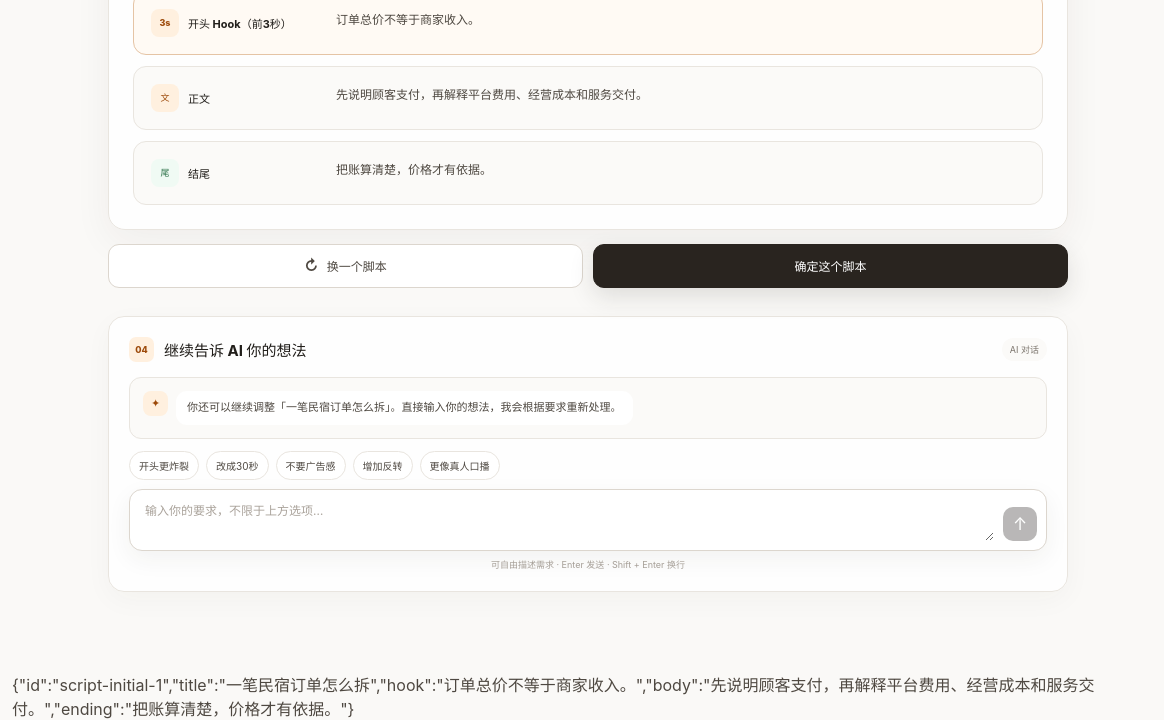
Step4 聊天修改脚本 › 修改成功后同步更新聊天、脚本卡片和 WorkflowContext 四个字段
The image size is (1164, 720).
(page scrolled)
Type "更幽默" into the text box named "输入调整要求" at (568, 520), box [143,498,994,541]
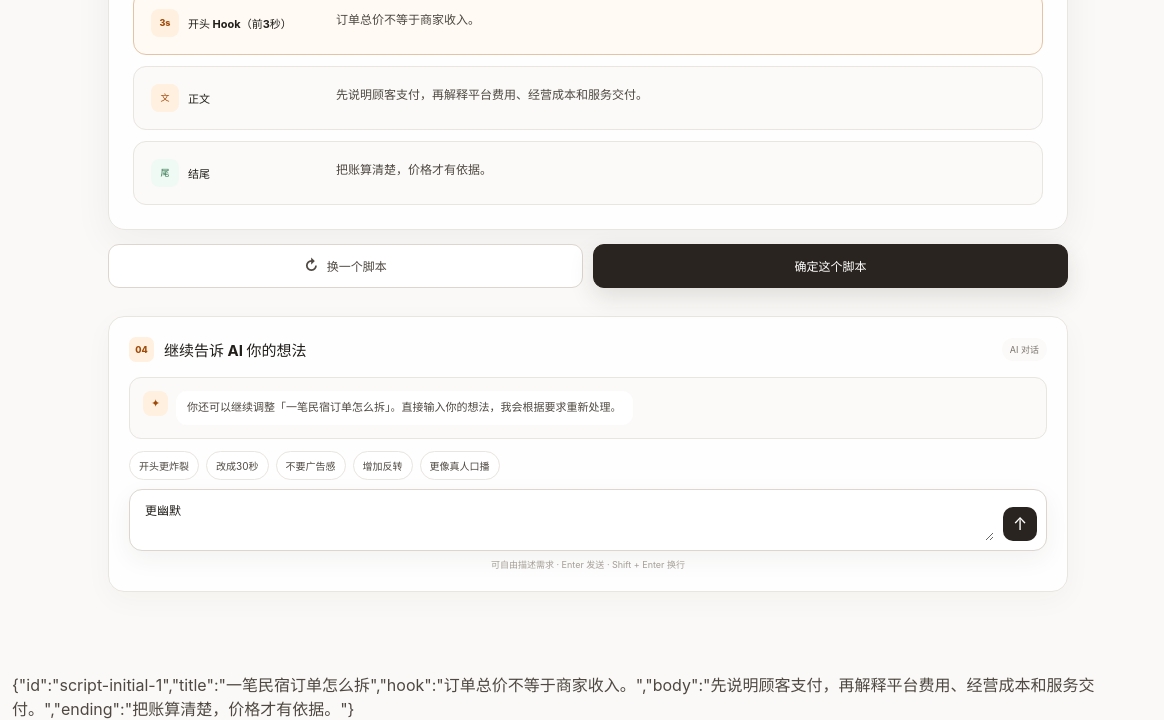
Click the button named "发送创意要求" at (1020, 524), box [1003,507,1037,541]
Wait 5000 ms
(page scrolled)
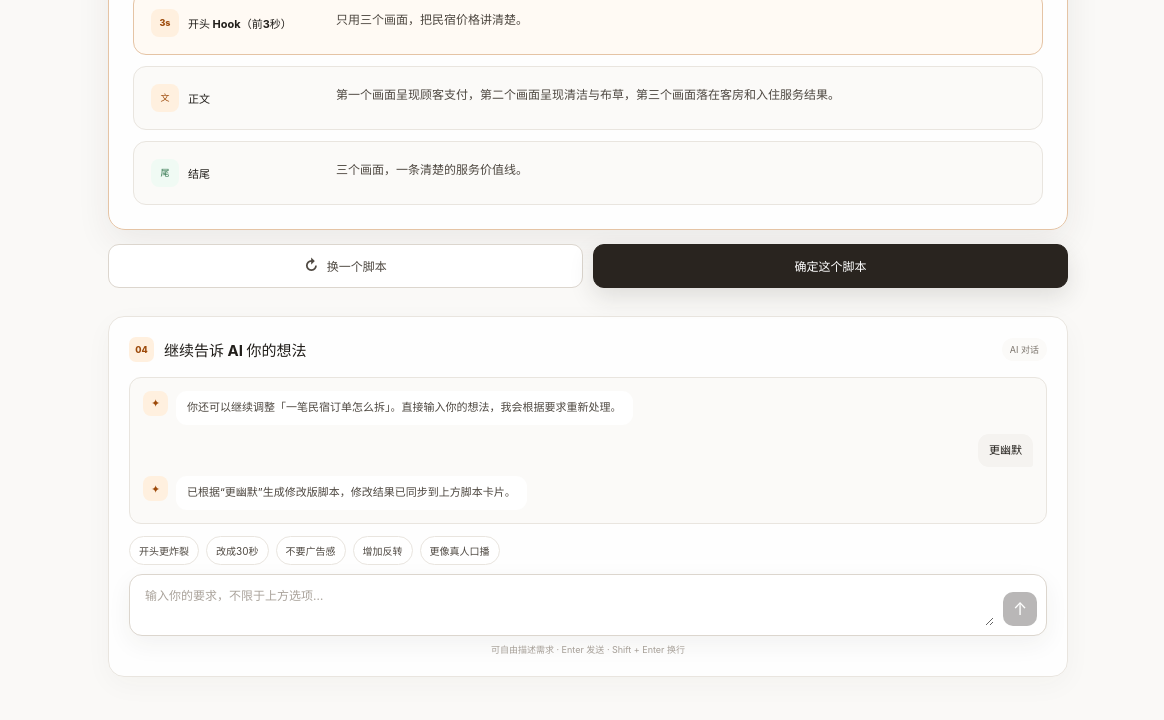
Now the text "已根据“更幽默”生成修改版脚本，修改结果已同步到上方脚本卡片。" is shown, box [176,476,527,510]
Now the text "更幽默" is shown, box [978,434,1033,467]
Now the text "只用三个画面，把民宿价格讲清楚。" is shown, box [336,12,528,27]
Click the button "确定这个脚本" at (830, 266), box [593,244,1068,288]
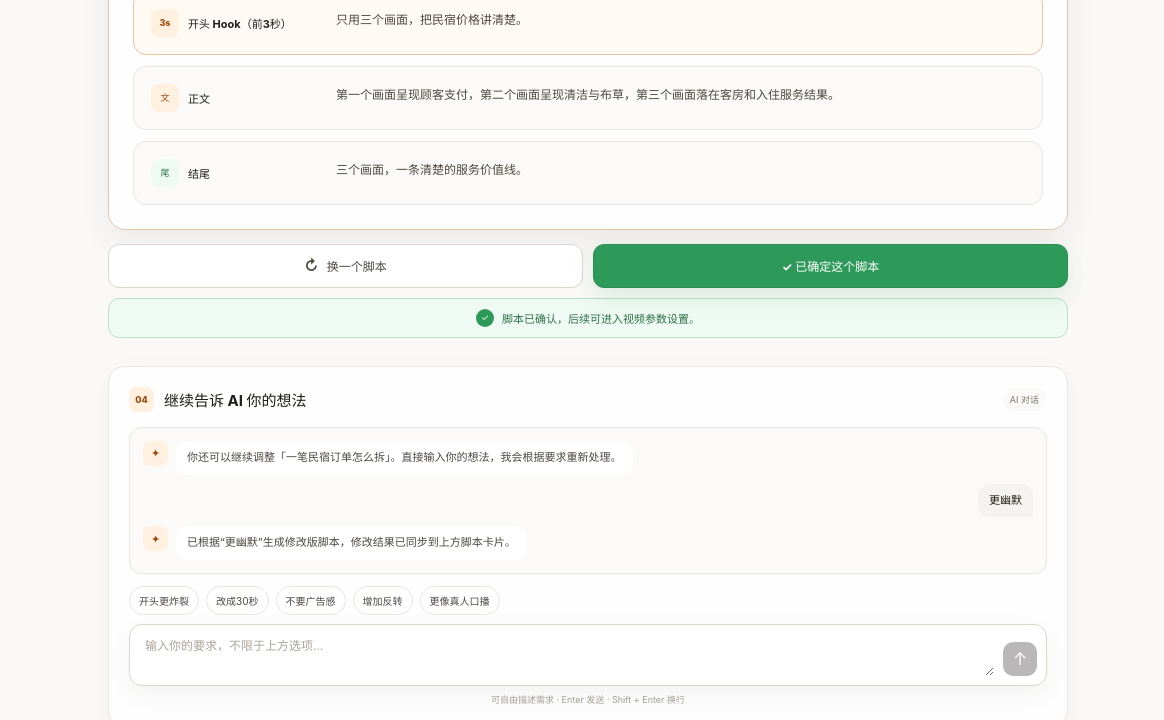
Click the button "↻ 换一个脚本" at (346, 266), box [108,244,583,288]
(page scrolled)
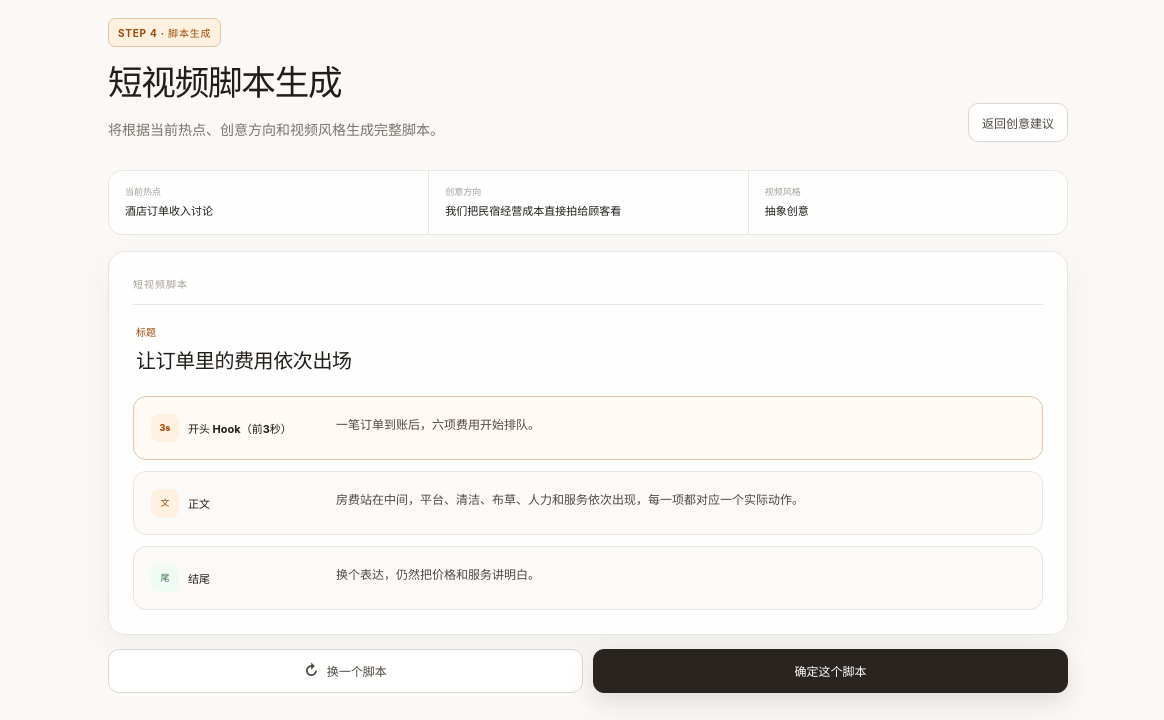
Now the heading "让订单里的费用依次出场" is shown, box [136,349,352,373]
